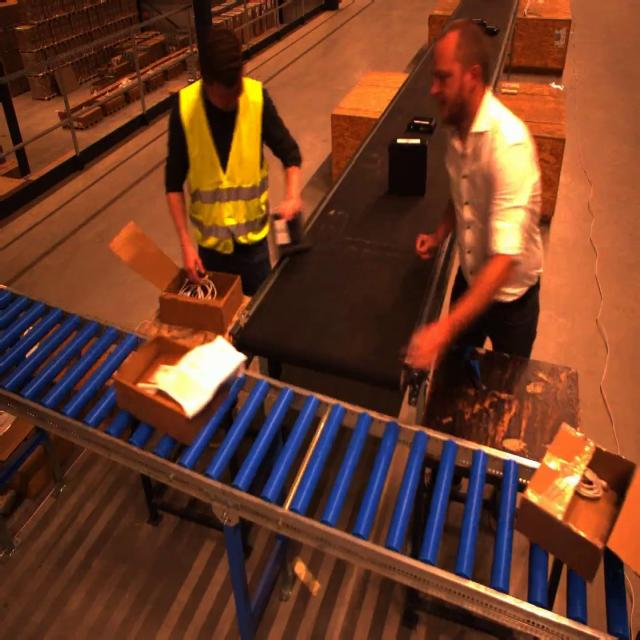box: (514, 425, 637, 584), (108, 222, 244, 338), (112, 336, 240, 449)
product: (386, 138, 428, 198), (406, 115, 437, 134), (485, 24, 499, 36), (471, 18, 484, 25)
